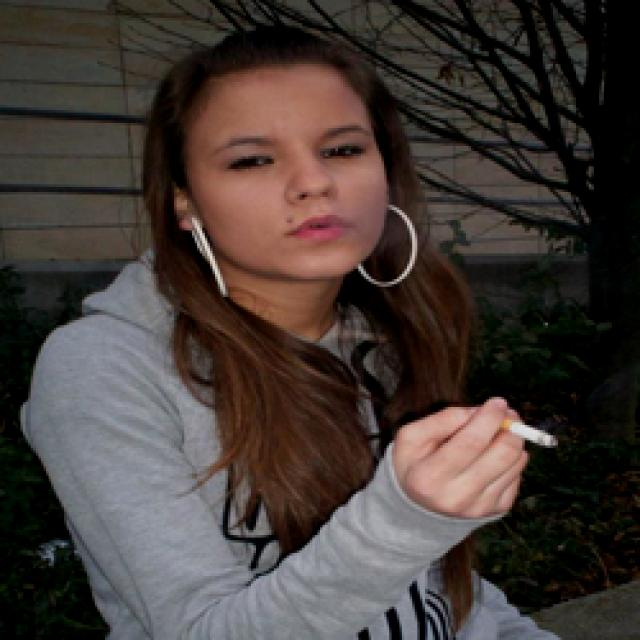Smooking: (502, 407, 566, 462)
